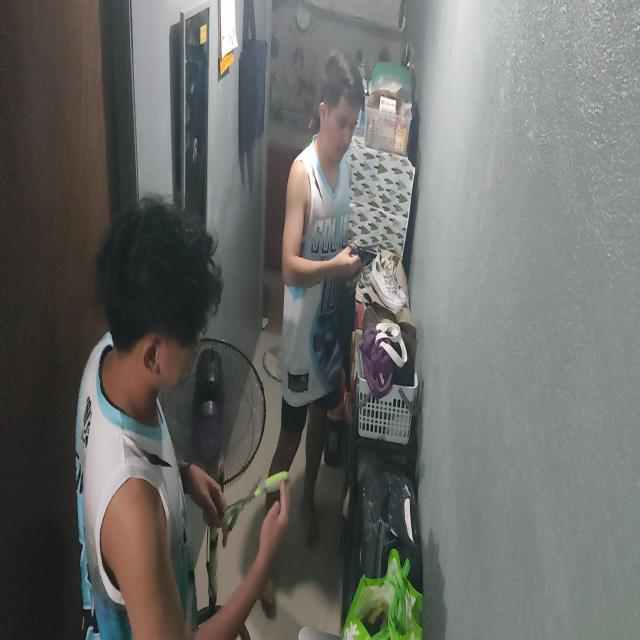scissor: (218, 471, 290, 537)
